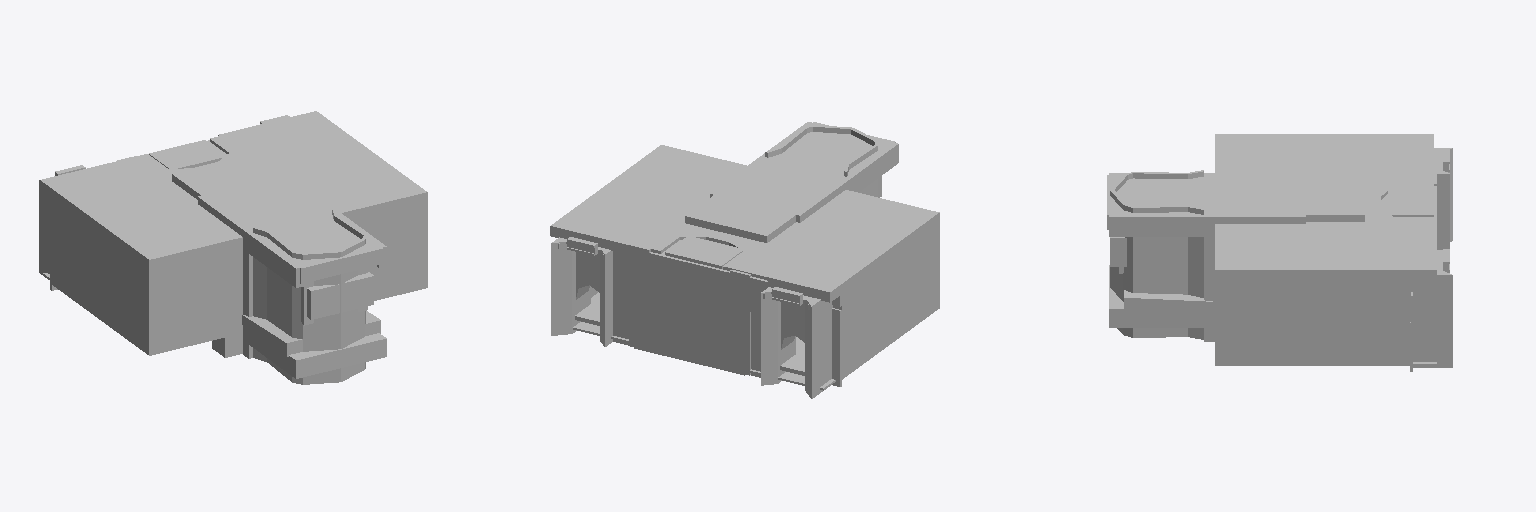
The model's file is mouth-room.obj.
3 renders of one model, left to right at view 1: azimuth 30°, elevation 25°; view 2: azimuth 150°, elevation 25°; view 3: azimuth 270°, elevation 25°, orthographic.
Parts seen in each view (by area): view 1: entity0_brush169, entity0_brush168, entity0_brush272, entity0_brush325, entity0_brush102, entity0_brush163, entity0_brush149, entity0_brush205, entity0_brush151, entity0_brush181, entity0_brush160, entity0_brush148 (+15 smaller); view 2: entity0_brush169, entity0_brush168, entity0_brush272, entity0_brush319, entity0_brush325, entity0_brush314, entity0_brush309, entity0_brush286, entity0_brush163, entity0_brush315, entity0_brush323, entity0_brush294 (+9 smaller); view 3: entity0_brush168, entity0_brush169, entity0_brush272, entity0_brush326, entity0_brush324, entity0_brush146, entity0_brush165, entity0_brush309, entity0_brush102, entity0_brush294, entity0_brush190, entity0_brush65 (+8 smaller).
Boxes of the visible parts, box(x1,y1,x2,y2) form: entity0_brush169: box(40, 156, 242, 269); entity0_brush168: box(218, 111, 427, 220); entity0_brush272: box(172, 154, 382, 283); entity0_brush325: box(104, 238, 225, 355); entity0_brush102: box(249, 330, 386, 378); entity0_brush163: box(198, 195, 303, 287); entity0_brush149: box(301, 251, 340, 384); entity0_brush205: box(307, 272, 373, 319); entity0_brush151: box(267, 232, 294, 381); entity0_brush181: box(368, 245, 427, 290); entity0_brush160: box(212, 248, 242, 357); entity0_brush148: box(339, 238, 364, 381); entity0_brush169: box(733, 190, 939, 302); entity0_brush168: box(550, 145, 746, 259); entity0_brush272: box(685, 122, 895, 242); entity0_brush319: box(651, 260, 729, 371); entity0_brush325: box(894, 221, 939, 329); entity0_brush314: box(805, 296, 832, 398); entity0_brush309: box(551, 237, 585, 335); entity0_brush286: box(664, 256, 767, 313); entity0_brush163: box(793, 142, 898, 222); entity0_brush315: box(761, 287, 795, 385); entity0_brush323: box(842, 254, 893, 378); entity0_brush294: box(665, 237, 742, 268); entity0_brush168: box(1215, 222, 1436, 280); entity0_brush169: box(1215, 134, 1433, 181); entity0_brush272: box(1107, 175, 1364, 229); entity0_brush326: box(1306, 278, 1409, 365); entity0_brush324: box(1215, 278, 1306, 365); entity0_brush146: box(1133, 206, 1187, 337); entity0_brush165: box(1109, 213, 1305, 236); entity0_brush309: box(1413, 268, 1452, 367); entity0_brush102: box(1109, 265, 1203, 327); entity0_brush294: box(1388, 187, 1433, 216); entity0_brush190: box(1215, 296, 1304, 322); entity0_brush65: box(1305, 322, 1410, 355).
Bounding box in the file's own units: 1128 × 512 × 1216.